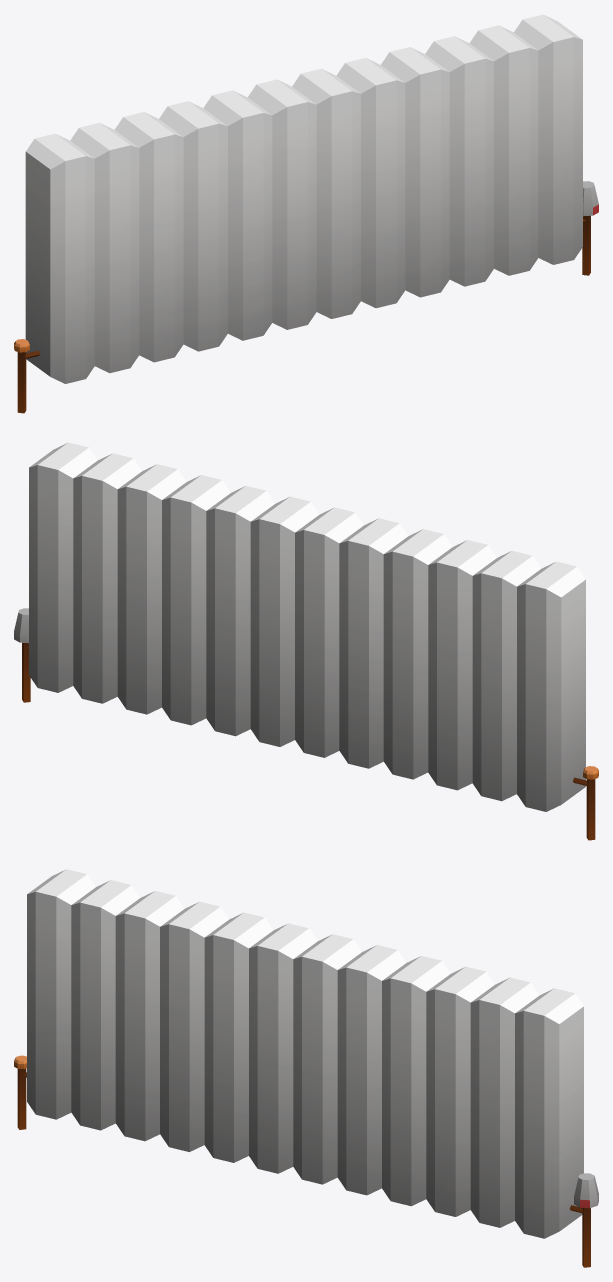
Rendered from Radiator.fbx.
The picture shows the model from 3 angles, top to bottom: view 1: azimuth 30°, elevation 25°; view 2: azimuth 150°, elevation 25°; view 3: azimuth 330°, elevation 25°; orthographic projection.
Parts seen in each view (by area): view 1: Radiator; view 2: Radiator; view 3: Radiator.
Boxes of the visible parts, box(x1,y1,x2,y2) form: Radiator: box(14, 14, 598, 413); Radiator: box(14, 442, 598, 840); Radiator: box(14, 869, 598, 1267).
Bounding box in the file's own units: 169 × 70.64 × 15.52.
